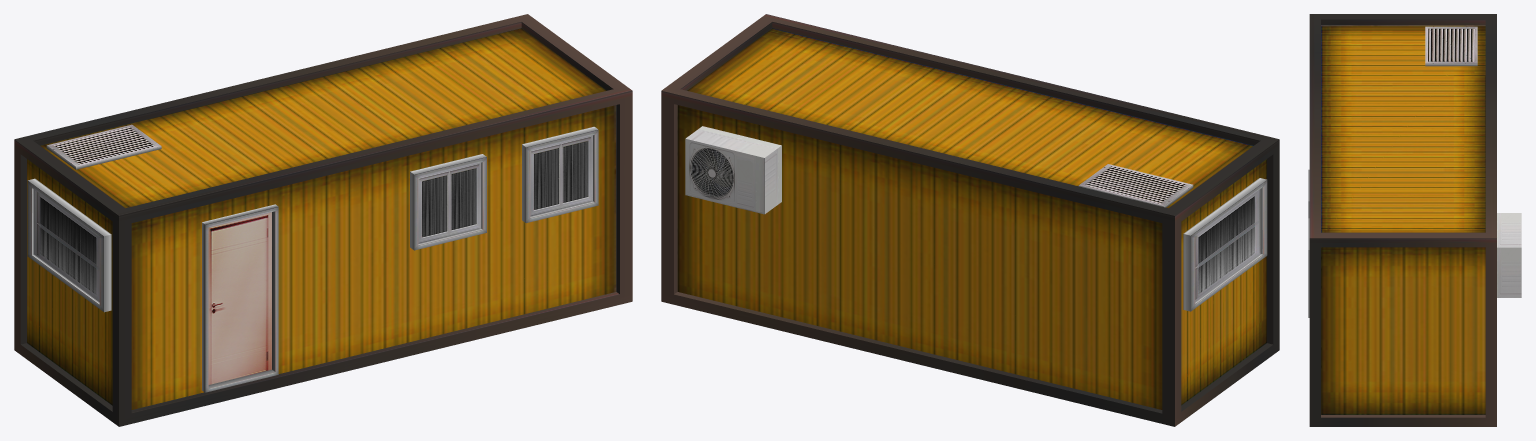
Rendered from source-cabin.glb.
The picture shows the model from 3 angles, left to right: view 1: azimuth 30°, elevation 25°; view 2: azimuth 150°, elevation 25°; view 3: azimuth 270°, elevation 25°; orthographic projection. The views are drawn at different scales.
Visible parts, largest first — view 1: source-cabin; view 2: source-cabin; view 3: source-cabin.
Boxes of the visible parts, x1,y1,x2,y2 form: source-cabin: [14, 14, 632, 426]; source-cabin: [661, 14, 1279, 426]; source-cabin: [1308, 14, 1521, 426].
Size of the model in its own units: 12 by 4.7 by 4.8.
1 material, 1 textured.
